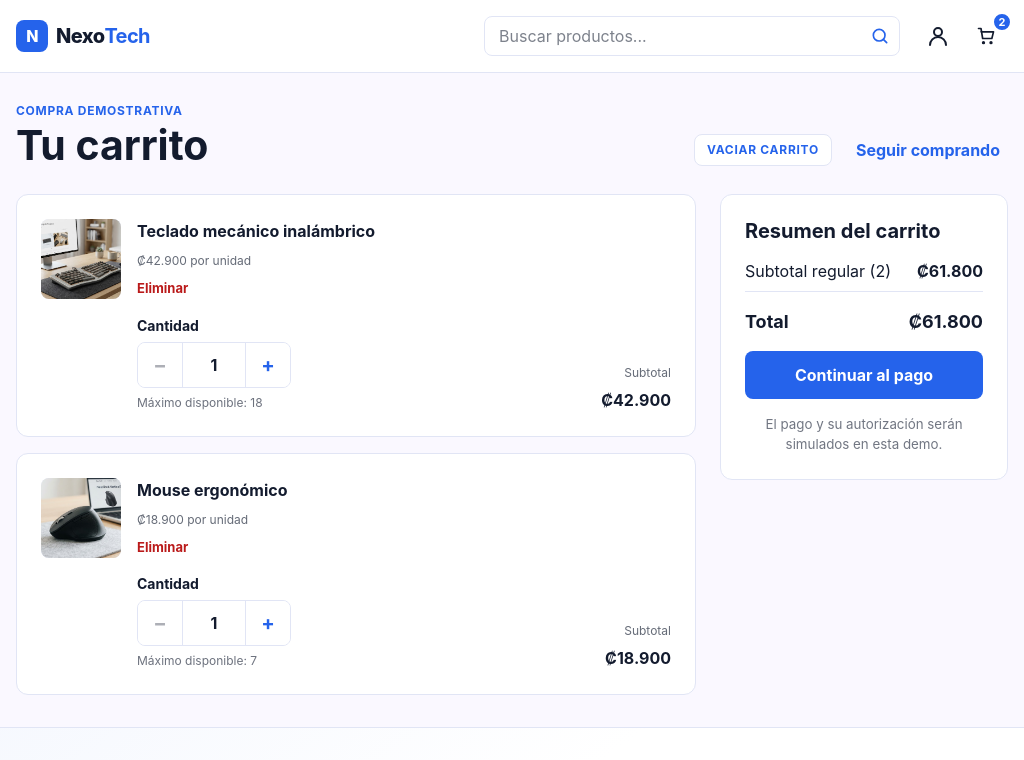
Test: CartPage › actualiza cantidad en el mismo estado que alimenta el Header
This screenshot has width=1024, height=760.
Click the button named "Aumentar cantidad" at (268, 365), box [246, 343, 290, 387]
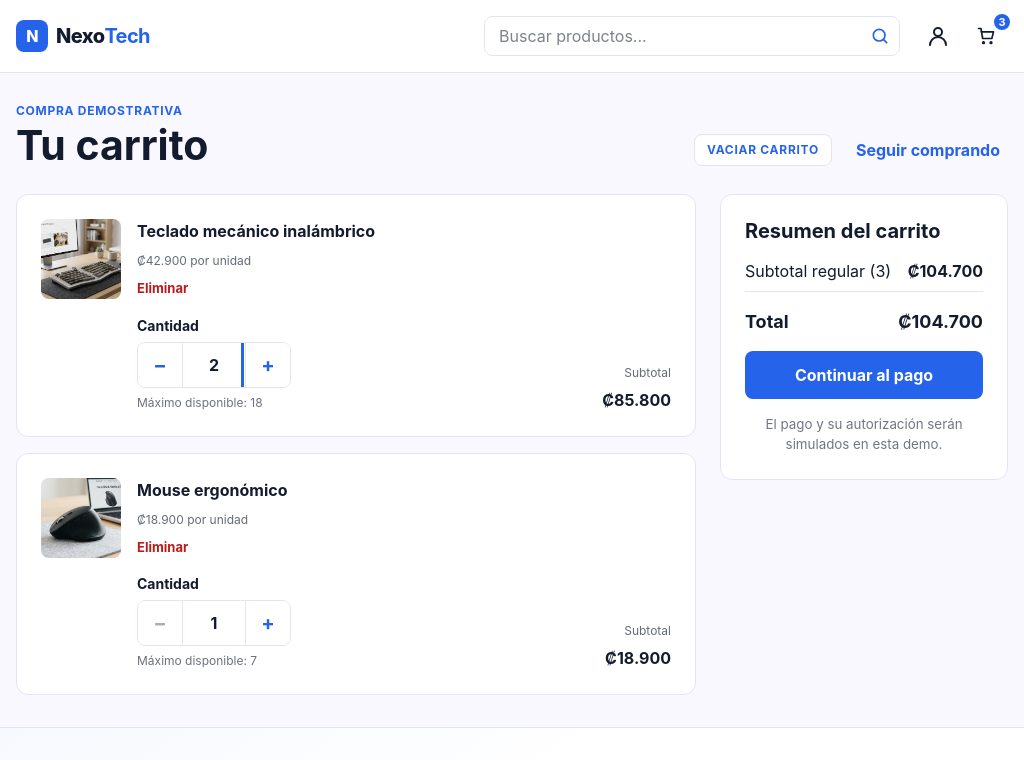
Now the link named "Carrito, 3 productos" is shown, box [976, 12, 1012, 46]
Now the number field named "Cantidad de Teclado mecánico inalámbrico" holds "2", box [182, 343, 246, 387]
